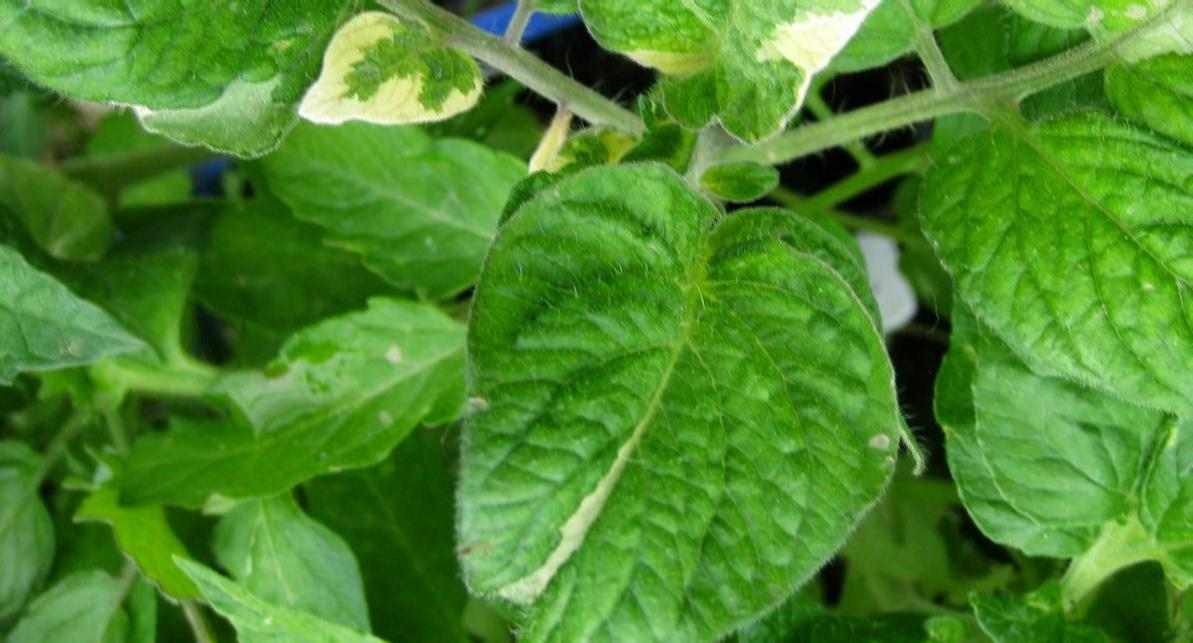Tomato leaf: (448, 150, 909, 639), (928, 131, 1193, 422), (0, 201, 154, 412)
